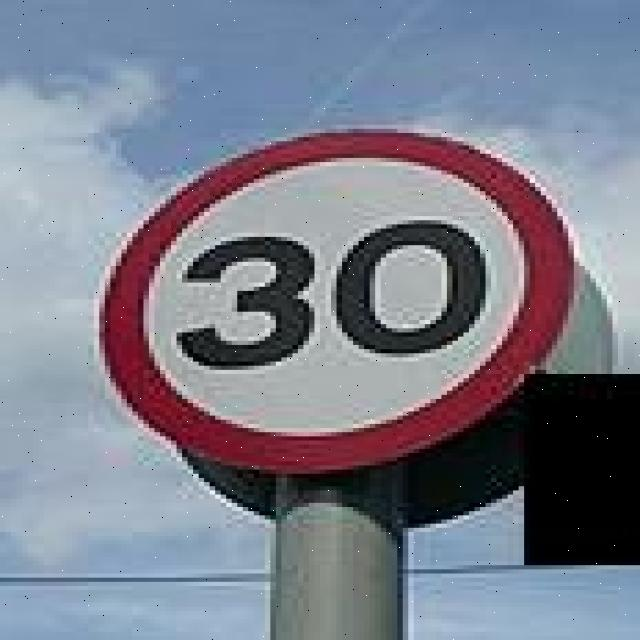speed limit 30: (98, 128, 575, 474)
